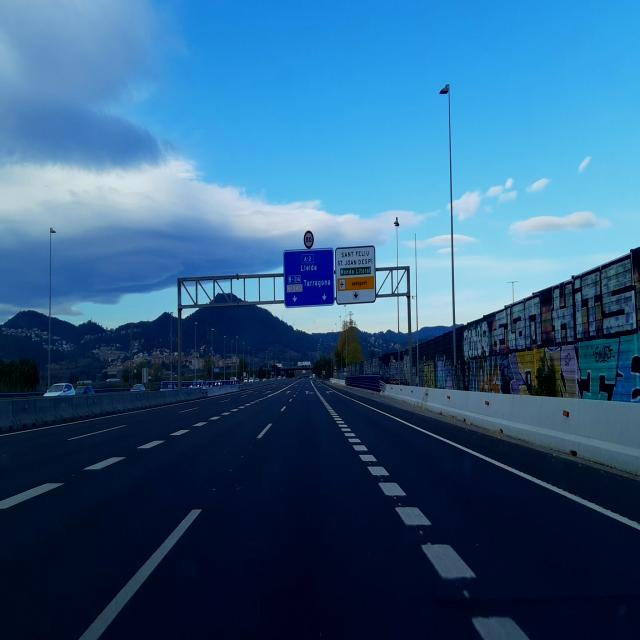car: (43, 382, 75, 398), (75, 383, 95, 396)
